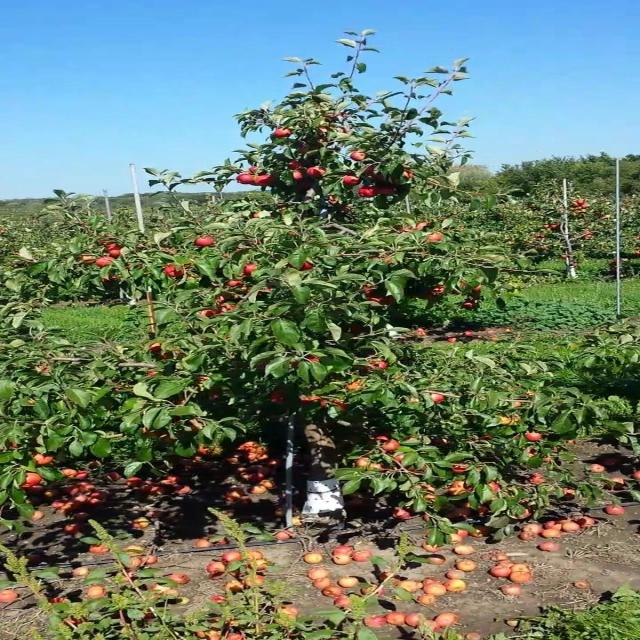apple: (177, 420, 206, 432), (141, 428, 169, 438), (419, 488, 439, 501), (454, 484, 475, 495), (28, 472, 43, 487), (369, 296, 396, 304), (35, 456, 57, 465), (255, 176, 272, 187), (269, 392, 284, 404), (518, 508, 533, 520), (561, 488, 576, 499), (376, 188, 396, 196), (525, 432, 542, 440), (312, 168, 327, 177), (348, 176, 363, 185), (454, 464, 469, 473), (362, 188, 377, 197), (148, 344, 164, 352), (99, 260, 114, 268), (241, 176, 256, 184), (291, 172, 306, 180), (383, 444, 398, 452), (163, 436, 178, 444), (454, 464, 469, 472), (305, 396, 322, 403), (532, 476, 546, 484), (198, 240, 213, 247), (298, 184, 313, 191), (355, 152, 368, 160), (170, 268, 183, 276), (371, 290, 382, 299), (433, 396, 446, 403), (335, 404, 348, 411), (433, 440, 448, 446), (490, 484, 501, 492), (84, 256, 96, 263), (433, 288, 446, 294), (163, 352, 174, 359), (348, 384, 363, 389), (291, 164, 304, 169), (376, 364, 389, 369), (426, 496, 439, 501), (276, 132, 292, 136), (248, 264, 256, 272), (376, 436, 391, 440), (227, 304, 235, 311), (404, 172, 412, 179), (205, 312, 219, 316), (483, 508, 491, 515), (106, 244, 119, 248), (228, 284, 240, 288), (369, 168, 377, 174), (220, 296, 228, 302), (413, 468, 425, 472), (305, 264, 313, 269), (113, 252, 121, 256), (433, 236, 441, 240), (397, 456, 405, 460), (355, 328, 363, 332), (419, 224, 427, 228), (483, 436, 491, 440), (15, 444, 20, 447)
